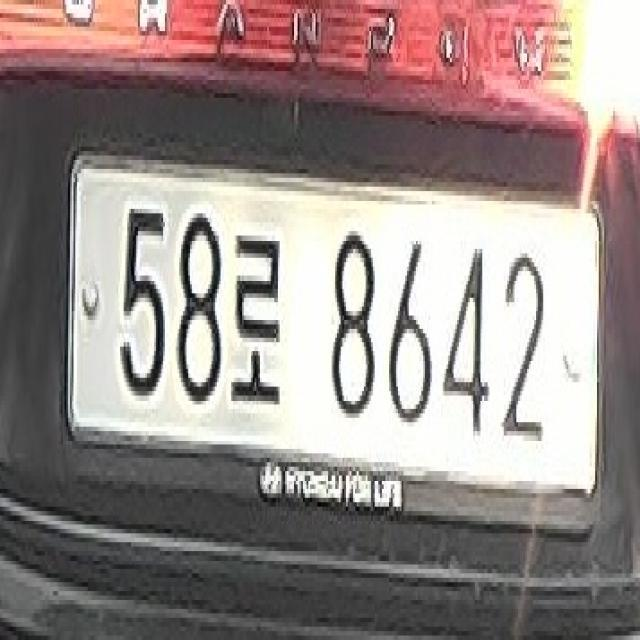2: (498, 247, 550, 456)
4: (436, 230, 492, 434)
5: (116, 198, 168, 406)
6: (382, 216, 432, 431)
8: (170, 201, 224, 406), (328, 218, 376, 420)
license_plate: (60, 132, 609, 554)
lo: (228, 210, 286, 419)
